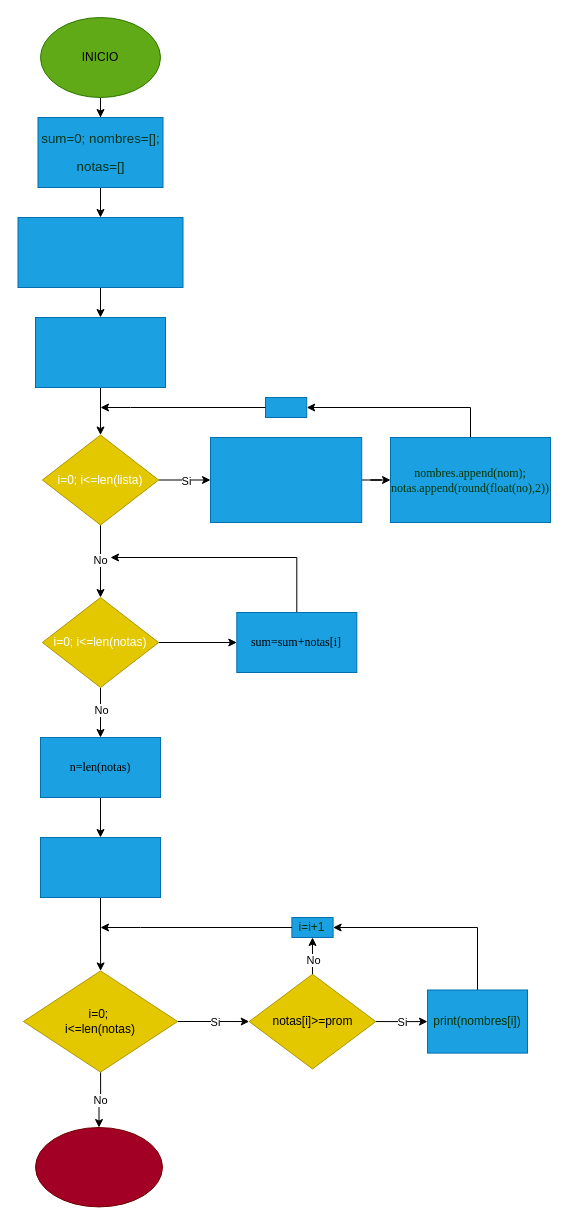
The diagram is 568 pixels wide and 1225 high, and some of its shapes have lost their labels. Each missing label, with the centre of its shape:
estidiantes=input("nombre y notas estudiantes"): pixel 100 252
FIN: pixel 98 1166
i=i+2: pixel 285 407
lista=estudiantes.split(): pixel 100 352
nom=lista[i]; no=lista[i+1]: pixel 286 479
prom=sum/n: pixel 100 867
